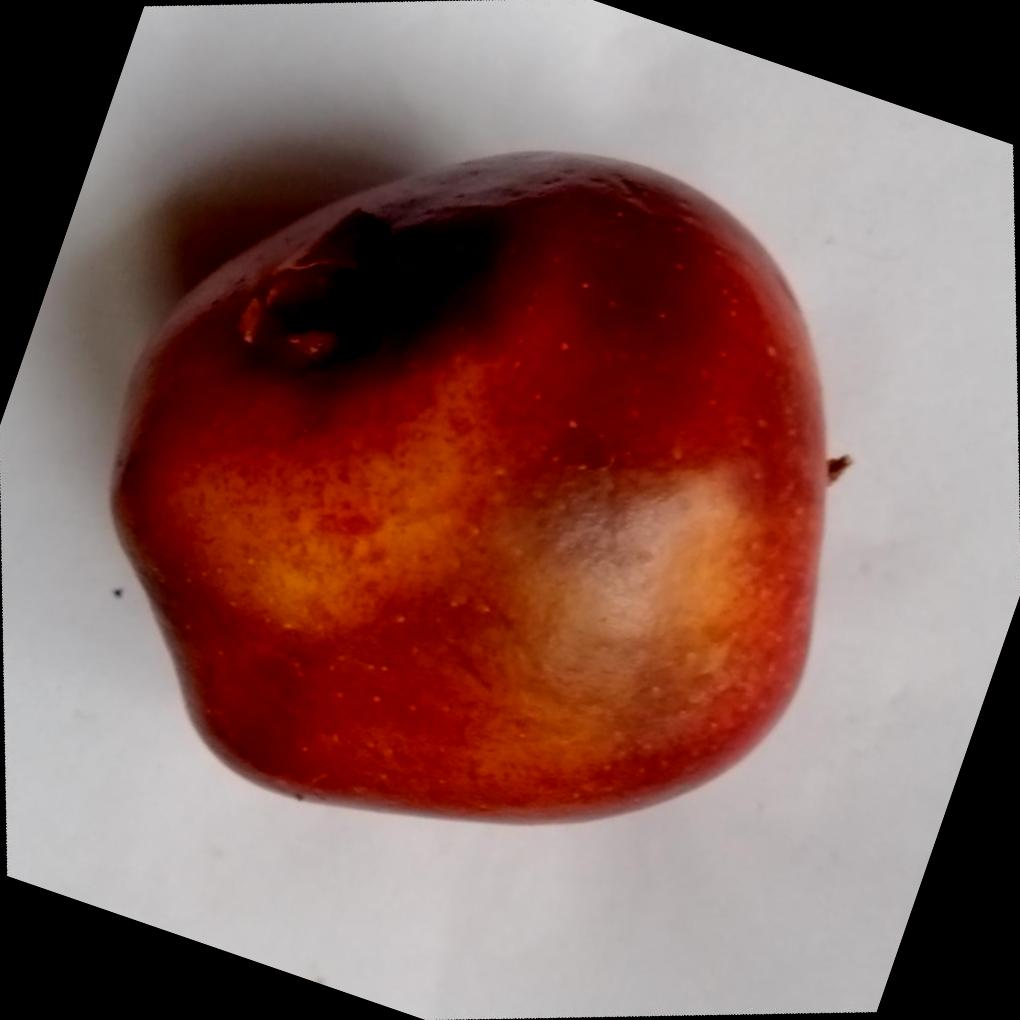FreshOrange: (108, 149, 838, 828)
